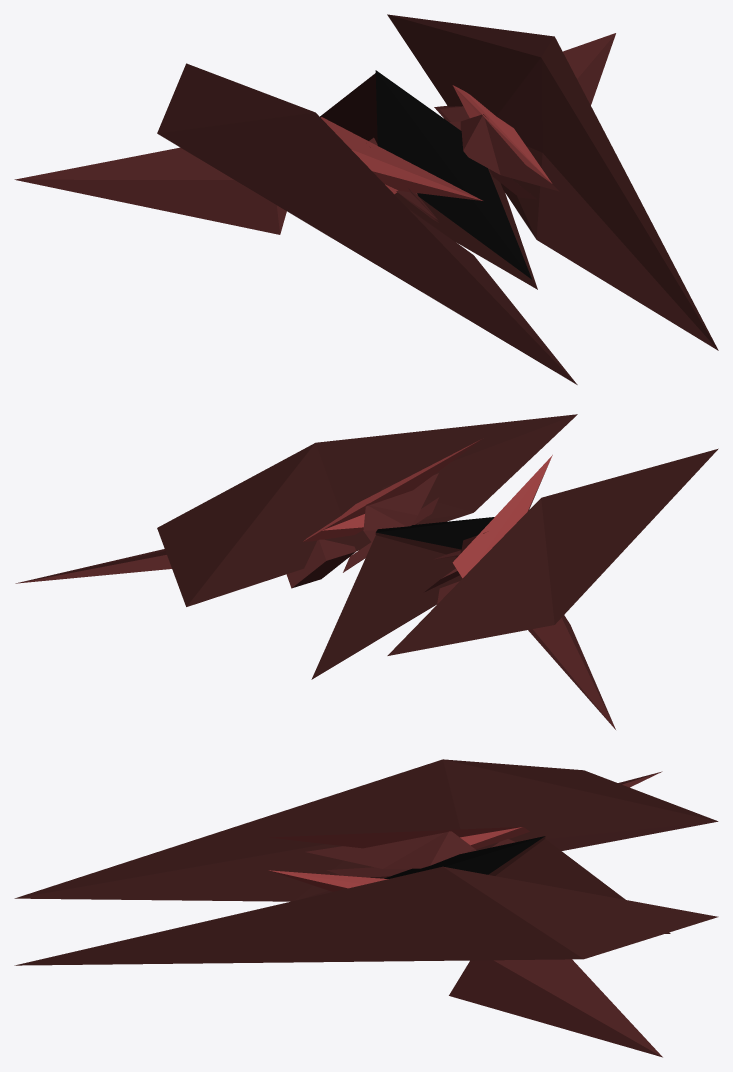
3 views of the same model, one above another, from view 1: azimuth 30°, elevation 25°; view 2: azimuth 150°, elevation 25°; view 3: azimuth 270°, elevation 25° (orthographic). The views are drawn at different scales.
Visible parts, largest first — view 1: LowPolySpaceship04; view 2: LowPolySpaceship04; view 3: LowPolySpaceship04.
Part boxes in pixels (x1,y1,x2,y2): LowPolySpaceship04: [14, 14, 718, 384]; LowPolySpaceship04: [15, 414, 718, 729]; LowPolySpaceship04: [14, 759, 718, 1057].
Size of the model in its own units: 4.26 by 0.8435 by 4.43.
